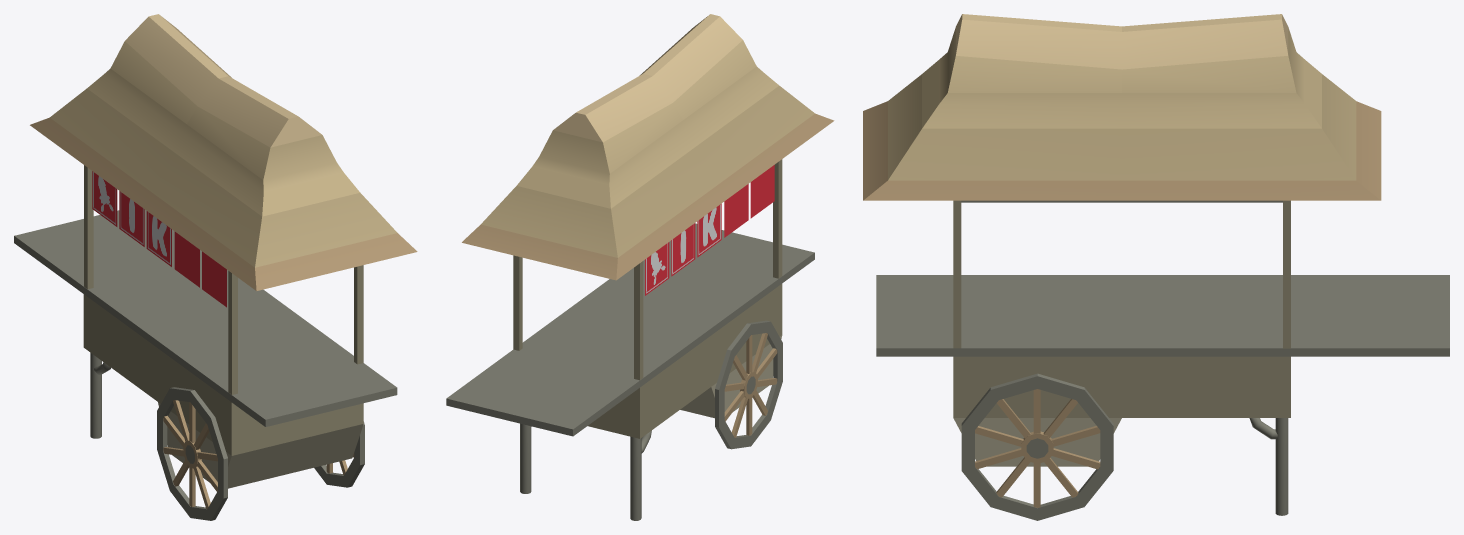
File: ika_ramen_stand.fbx
The picture shows the model from 3 angles, left to right: view 1: azimuth 30°, elevation 25°; view 2: azimuth 150°, elevation 25°; view 3: azimuth 270°, elevation 25°; orthographic projection. The views are drawn at different scales.
Parts seen in each view (by area): view 1: polySurface68; view 2: polySurface68; view 3: polySurface68.
Part boxes in pixels (x1,y1,x2,y2): polySurface68: (14, 14, 417, 520); polySurface68: (446, 14, 834, 520); polySurface68: (863, 14, 1449, 520).
Size of the model in its own units: 0.1974 by 0.4763 by 0.5452.
Materials: 13 (5 with a texture image).
